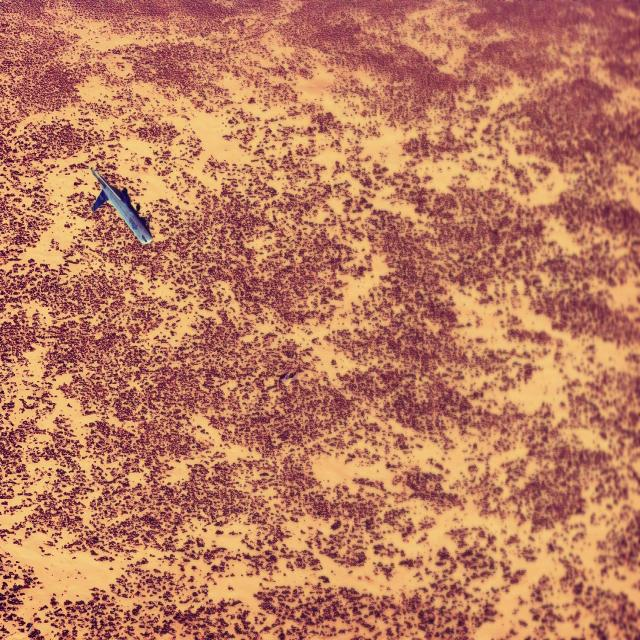airplane: (90, 166, 153, 246)
